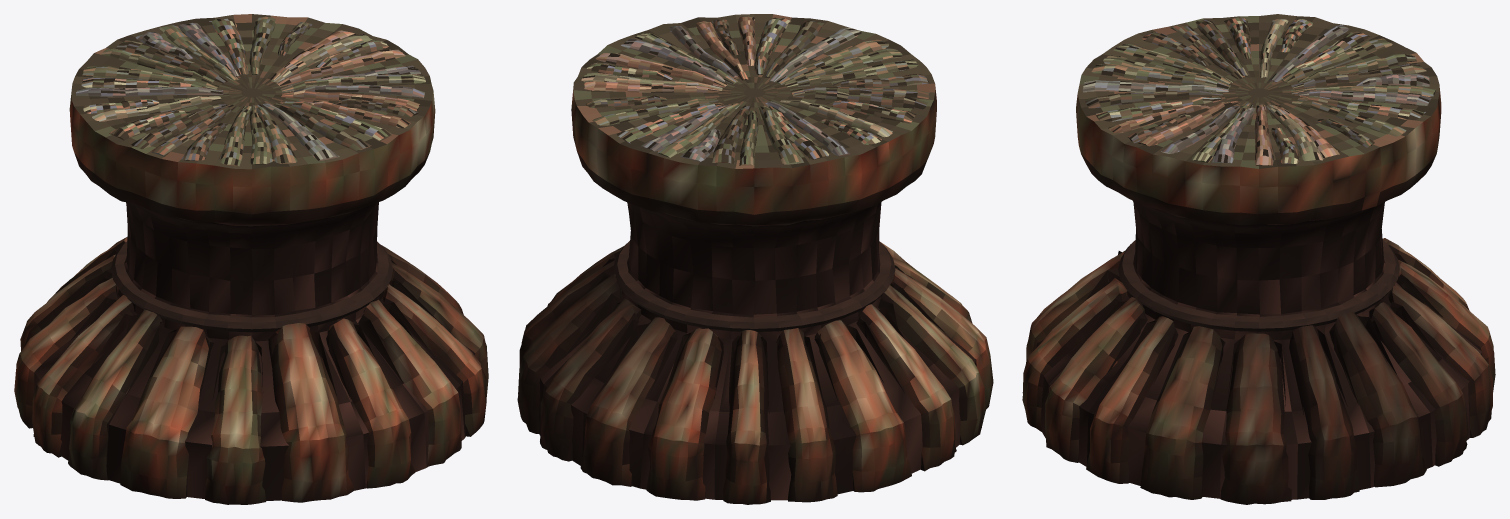
The model's file is NPCTHESH.glb.
The picture shows the model from 3 angles, left to right: view 1: azimuth 30°, elevation 25°; view 2: azimuth 150°, elevation 25°; view 3: azimuth 270°, elevation 25°; orthographic projection.
Parts seen in each view (by area): view 1: NPCTHESH; view 2: NPCTHESH; view 3: NPCTHESH.
Part boxes in pixels (x1,y1,x2,y2): NPCTHESH: (14,14,488,504); NPCTHESH: (517,14,993,504); NPCTHESH: (1022,14,1495,504).
Bounding box in the file's own units: 3.55 × 2.64 × 3.53.
